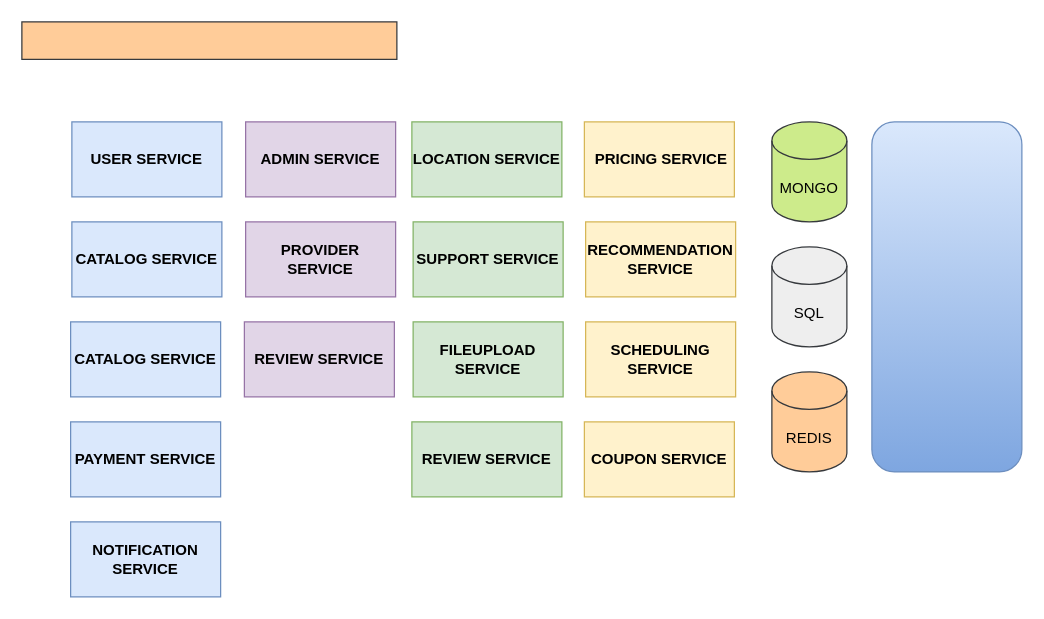
Some shapes in this 1044 by 619 pixel diagram are drawn without their labels. The shapes that lost their labels are listed below. From the top down, each one's box as (x1, y1, x2, y2) in pixels, then its label:
(21, 21, 397, 59): SERVAT DIAGRAM TEMPLATE
(871, 121, 1022, 472): RABBITMQ
